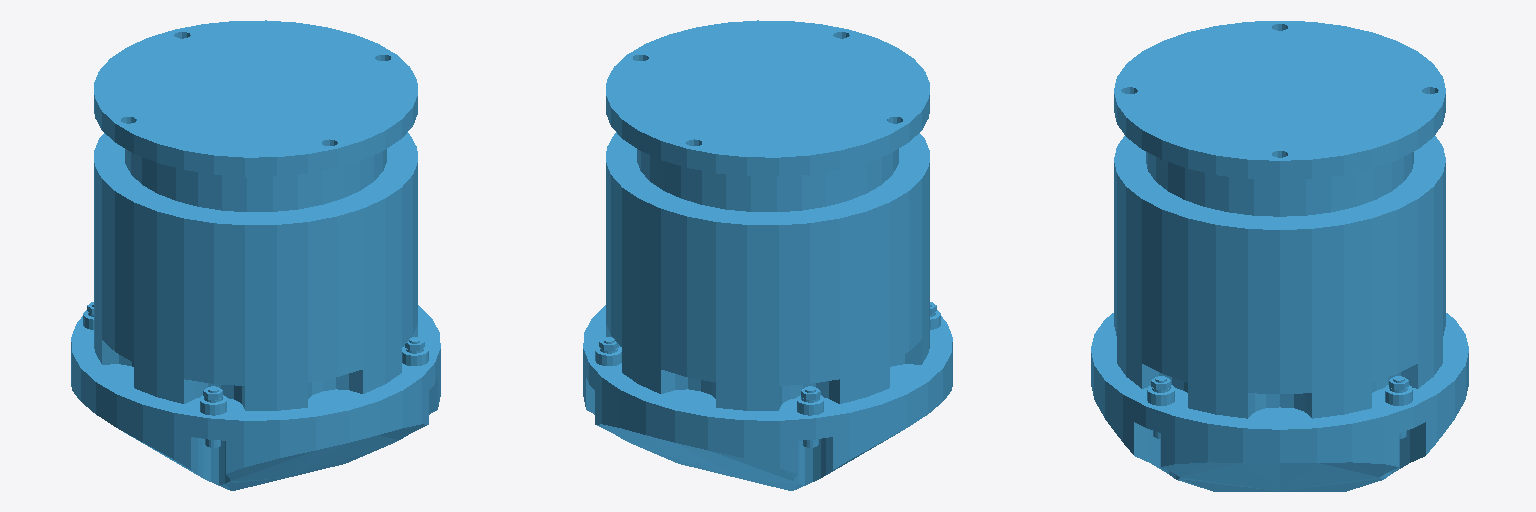
The robot description file, URDF, robot "teledyne_whn":
<?xml version="1.0" encoding="utf-8"?>
<robot name="teledyne_whn">

  <link name="dvl_base_link"/>

  <link name="dvl_link">
    <inertial>
      <mass value="8.8"/>
      <origin xyz="0 0 0" rpy="0 0 0"/>
      <inertia ixx="0.071732122" ixy="0" ixz="0" iyy="0.071732122" iyz="0" izz="0.055786544"/>
    </inertial>
    <visual>
      <geometry>
        <mesh filename="package://dvl_gazebo/meshes/WorkhorseNavigator.dae"/>
      </geometry>
      <origin xyz="0 0 0" rpy="0 1.5707963267948966 0"/>
    </visual>
    <collision>
      <geometry>
        <cylinder length="0.2445" radius="0.1126"/>
      </geometry>
      <origin xyz="0 0 0" rpy="0 1.5707963267948966 0"/>
    </collision>
  </link>

  <joint name="dvl_base_joint" type="fixed">
    <origin xyz="0 0 0" rpy="0 1.5707963267948966 0"/>
    <parent link="dvl_base_link"/>
    <child link="dvl_link"/>
  </joint>

  <link name="dvl_sonar0_link">
    <inertial>
      <mass value="0.001"/>
      <origin xyz="0 0 0" rpy="0 0 0"/>
      <inertia ixx="0.000000017" ixy="0" ixz="0" iyy="0.000000017" iyz="0" izz="0.000000017"/>
    </inertial>
  </link>

  <joint name="dvl_sonar0_joint" type="revolute">
    <origin xyz="0 0 0" rpy="0 -0.52 0.0"/>
    <parent link="dvl_link"/>
    <child link="dvl_sonar0_link"/>
    <limit upper="0" lower="0" effort="0" velocity="0"/>
    <axis xyz="1 0 0"/>
  </joint>

  <gazebo reference="dvl_sonar0_link">
    <sensor type="ray" name="dvl_sonar0">
      <pose>0 0 0 0 0 0</pose>
      <update_rate>7</update_rate>
      <visualize>true</visualize>
      <ray>
        <scan>
          <horizontal>
            <samples>3</samples>
            <resolution>1</resolution>
            <min_angle>-0.03</min_angle>
            <max_angle>0.03</max_angle>
          </horizontal>
          <vertical>
            <samples>3</samples>
            <resolution>1</resolution>
            <min_angle>-0.03</min_angle>
            <max_angle>0.03</max_angle>
          </vertical>
        </scan>
        <range>
          <min>0.7</min>
          <max>90</max>
          <resolution>0.01</resolution>
        </range>
      </ray>

      <plugin filename="libgazebo_ros_range.so" name="dvl_sonar0">
        <gaussianNoise>0.05</gaussianNoise>
        <alwaysOn>true</alwaysOn>
        <updateRate>7</updateRate>
        <topicName>dvl/dvl_sonar0</topicName>
        <frameName>dvl_sonar0_link</frameName>
        <fov>0.06</fov>
        <radiation>ultrasound</radiation>
      </plugin>
    </sensor>
  </gazebo>

  <link name="dvl_sonar1_link">
    <inertial>
      <mass value="0.001"/>
      <origin xyz="0 0 0" rpy="0 0 0"/>
      <inertia ixx="0.000000017" ixy="0" ixz="0" iyy="0.000000017" iyz="0" izz="0.000000017"/>
    </inertial>
    <collision>
      <geometry>
        <cylinder length="0.000001" radius="0.000001"/>
      </geometry>
      <origin xyz="0 0 0" rpy="0 1.5707963267948966 0"/>
    </collision>
  </link>

  <joint name="dvl_sonar1_joint" type="revolute">
    <origin xyz="0 0 0" rpy="0 0 0.52"/>
    <parent link="dvl_link"/>
    <child link="dvl_sonar1_link"/>
    <limit upper="0" lower="0" effort="0" velocity="0"/>
    <axis xyz="1 0 0"/>
  </joint>

  <gazebo reference="dvl_sonar1_link">
    <sensor type="ray" name="dvl_sonar1">
      <pose>0 0 0 0 0 0</pose>
      <update_rate>7</update_rate>
      <visualize>true</visualize>
      <ray>
        <scan>
          <horizontal>
            <samples>3</samples>
            <resolution>1</resolution>
            <min_angle>-0.03</min_angle>
            <max_angle>0.03</max_angle>
          </horizontal>
          <vertical>
            <samples>3</samples>
            <resolution>1</resolution>
            <min_angle>-0.03</min_angle>
            <max_angle>0.03</max_angle>
          </vertical>
        </scan>
        <range>
          <min>0.7</min>
          <max>90</max>
          <resolution>0.01</resolution>
        </range>
      </ray>

      <plugin filename="libgazebo_ros_range.so" name="dvl_sonar1">
        <gaussianNoise>0.05</gaussianNoise>
        <alwaysOn>true</alwaysOn>
        <updateRate>7</updateRate>
        <topicName>dvl/dvl_sonar1</topicName>
        <frameName>dvl_sonar1_link</frameName>
        <fov>0.06</fov>
        <radiation>ultrasound</radiation>
      </plugin>
    </sensor>
  </gazebo>

  <link name="dvl_sonar2_link">
    <inertial>
      <mass value="0.001"/>
      <origin xyz="0 0 0" rpy="0 0 0"/>
      <inertia ixx="0.000000017" ixy="0" ixz="0" iyy="0.000000017" iyz="0" izz="0.000000017"/>
    </inertial>
    <collision>
      <geometry>
        <cylinder length="0.000001" radius="0.000001"/>
      </geometry>
      <origin xyz="0 0 0" rpy="0 1.5707963267948966 0"/>
    </collision>
  </link>

  <joint name="dvl_sonar2_joint" type="revolute">
    <origin xyz="0 0 0" rpy="0 0.52 0"/>
    <parent link="dvl_link"/>
    <child link="dvl_sonar2_link"/>
    <limit upper="0" lower="0" effort="0" velocity="0"/>
    <axis xyz="1 0 0"/>
  </joint>

  <gazebo reference="dvl_sonar2_link">
    <sensor type="ray" name="dvl_sonar2">
      <pose>0 0 0 0 0 0</pose>
      <update_rate>7</update_rate>
      <visualize>true</visualize>
      <ray>
        <scan>
          <horizontal>
            <samples>3</samples>
            <resolution>1</resolution>
            <min_angle>-0.03</min_angle>
            <max_angle>0.03</max_angle>
          </horizontal>
          <vertical>
            <samples>3</samples>
            <resolution>1</resolution>
            <min_angle>-0.03</min_angle>
            <max_angle>0.03</max_angle>
          </vertical>
        </scan>
        <range>
          <min>0.7</min>
          <max>90</max>
          <resolution>0.01</resolution>
        </range>
      </ray>

      <plugin filename="libgazebo_ros_range.so" name="dvl_sonar2">
        <gaussianNoise>0.05</gaussianNoise>
        <alwaysOn>true</alwaysOn>
        <updateRate>7</updateRate>
        <topicName>dvl/dvl_sonar2</topicName>
        <frameName>dvl_sonar2_link</frameName>
        <fov>0.06</fov>
        <radiation>ultrasound</radiation>
      </plugin>
    </sensor>
  </gazebo>

  <link name="dvl_sonar3_link">
    <inertial>
      <mass value="0.001"/>
      <origin xyz="0 0 0" rpy="0 0 0"/>
      <inertia ixx="0.000000017" ixy="0" ixz="0" iyy="0.000000017" iyz="0" izz="0.000000017"/>
    </inertial>
    <collision>
      <geometry>
        <cylinder length="0.000001" radius="0.000001"/>
      </geometry>
      <origin xyz="0 0 0" rpy="0 1.5707963267948966 0"/>
    </collision>
  </link>

  <joint name="dvl_sonar3_joint" type="revolute">
    <origin xyz="0 0 0" rpy="0 0 -0.52"/>
    <parent link="dvl_link"/>
    <child link="dvl_sonar3_link"/>
    <limit upper="0" lower="0" effort="0" velocity="0"/>
    <axis xyz="1 0 0"/>
  </joint>

  <gazebo reference="dvl_sonar3_link">
    <sensor type="ray" name="dvl_sonar3">
      <pose>0 0 0 0 0 0</pose>
      <update_rate>7</update_rate>
      <visualize>true</visualize>
      <ray>
        <scan>
          <horizontal>
            <samples>3</samples>
            <resolution>1</resolution>
            <min_angle>-0.03</min_angle>
            <max_angle>0.03</max_angle>
          </horizontal>
          <vertical>
            <samples>3</samples>
            <resolution>1</resolution>
            <min_angle>-0.03</min_angle>
            <max_angle>0.03</max_angle>
          </vertical>
        </scan>
        <range>
          <min>0.7</min>
          <max>90</max>
          <resolution>0.01</resolution>
        </range>
      </ray>

      <plugin filename="libgazebo_ros_range.so" name="dvl_sonar3">
        <gaussianNoise>0.05</gaussianNoise>
        <alwaysOn>true</alwaysOn>
        <updateRate>7</updateRate>
        <topicName>dvl/dvl_sonar3</topicName>
        <frameName>dvl_sonar3_link</frameName>
        <fov>0.06</fov>
        <radiation>ultrasound</radiation>
      </plugin>
    </sensor>
  </gazebo>

  <gazebo>
    <plugin filename="libuuv_gazebo_ros_dvl_plugin.so" name="libuuv_gazebo_dvl_plugin">
      <robot_namespace>dvl</robot_namespace>
      <link_name>dvl_base_link</link_name>
      <sensor_topic>dvl</sensor_topic>
      <update_rate>7</update_rate>
      <noise_sigma>0.5</noise_sigma>
      <noise_amplitude>0.5</noise_amplitude>
      <enable_gazebo_messages>false</enable_gazebo_messages>
      <enable_local_ned_frame>false</enable_local_ned_frame>
      <static_reference_frame>world</static_reference_frame>
      <!-- Declaring the beams -->
      <beam_link_name_0>dvl_sonar0_link</beam_link_name_0>
      <beam_link_name_1>dvl_sonar1_link</beam_link_name_1>
      <beam_link_name_2>dvl_sonar2_link</beam_link_name_2>
      <beam_link_name_3>dvl_sonar3_link</beam_link_name_3>
      <!-- Declaring the beam output topics -->
      <beam_topic_0>dvl_sonar0</beam_topic_0>
      <beam_topic_1>dvl_sonar1</beam_topic_1>
      <beam_topic_2>dvl_sonar2</beam_topic_2>
      <beam_topic_3>dvl_sonar3</beam_topic_3>
    </plugin>
  </gazebo>

  <!-- Turn gravity (off) for now so that the (unpowered) 
       robot doesn't sink like a rock.  Can remove this 
       once the neutral buoyancy issue (#4) is resolved -->
  <gazebo reference="dvl_link">
    <turnGravityOff>true</turnGravityOff>
  </gazebo>
  <gazebo reference="dvl_sonar0_link">
    <turnGravityOff>true</turnGravityOff>
  </gazebo>
  <gazebo reference="dvl_sonar1_link">
    <turnGravityOff>true</turnGravityOff>
  </gazebo>
  <gazebo reference="dvl_sonar2_link">
    <turnGravityOff>true</turnGravityOff>
  </gazebo>
  <gazebo reference="dvl_sonar3_link">
    <turnGravityOff>true</turnGravityOff>
  </gazebo>

</robot>

--- Render facts (derived) ---
The picture shows the robot from 3 angles, left to right: view 1: azimuth 30°, elevation 25°; view 2: azimuth 150°, elevation 25°; view 3: azimuth 270°, elevation 25°; orthographic projection.
Model teledyne_whn with 6 links and 5 joints (4 revolute, 1 fixed), rooted at dvl_base_link, posed all joints at 0.
Visible links, largest first — view 1: dvl_link; view 2: dvl_link; view 3: dvl_link.
Boxes of the visible links, bbox=[...] form: dvl_link: bbox=[71, 20, 440, 490]; dvl_link: bbox=[583, 20, 952, 490]; dvl_link: bbox=[1091, 21, 1468, 491].
Size in the robot's own frame: 0.2252 by 0.2252 by 0.2445 metres.
Meshes: 1 distinct files referenced, 1 mesh visuals loaded (1 Collada DAE).
